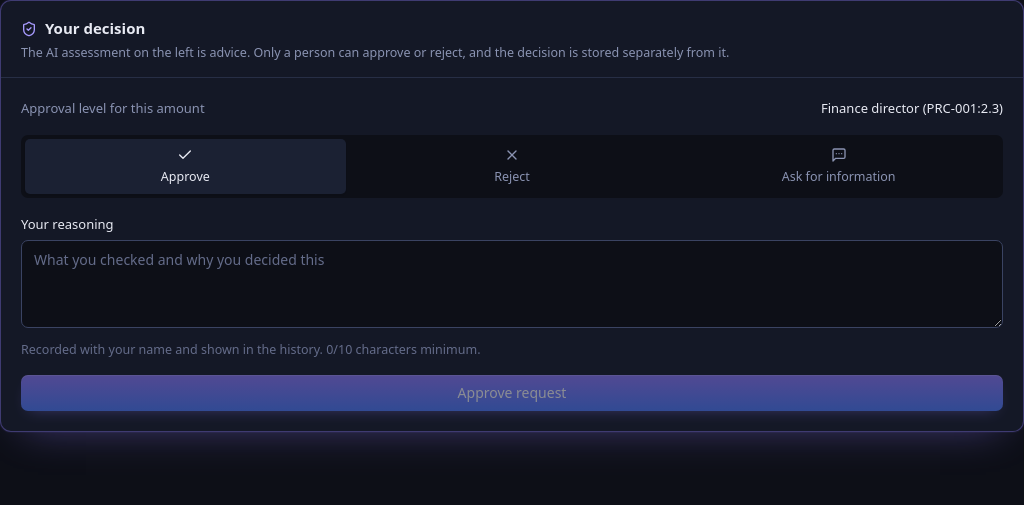
DecisionPanel › requires reasoning before anything can be submitted
The image size is (1024, 505).
Expected: the button "Approve request" is disabled, [21, 375, 1003, 411]
In the text box labelled "Your reasoning": [512, 284] box [21, 240, 1003, 328], type "short"
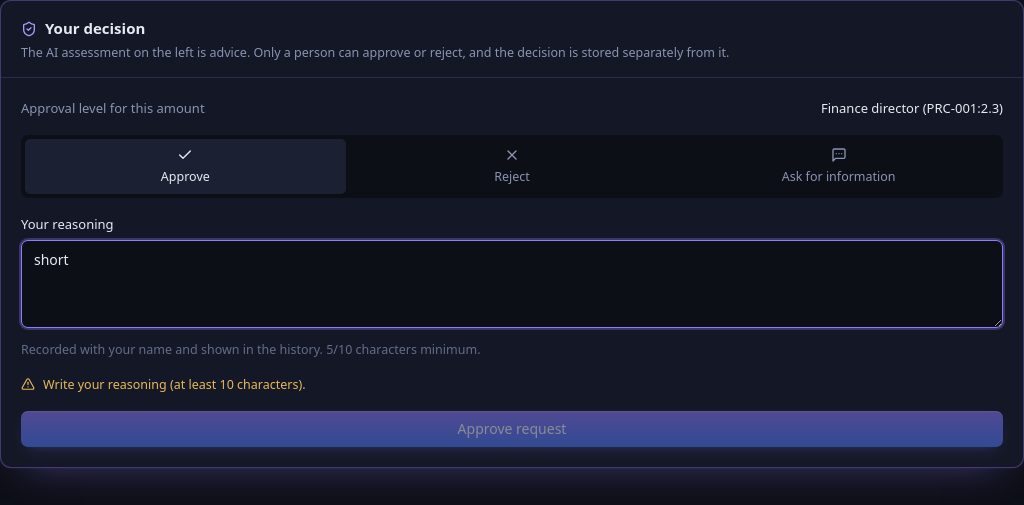
Now the list item "Write your reasoning (at least 10 characters)." is shown, box [21, 376, 306, 393]
In the text box labelled "Your reasoning": [512, 284] box [21, 240, 1003, 328], type " but now it is long enough"
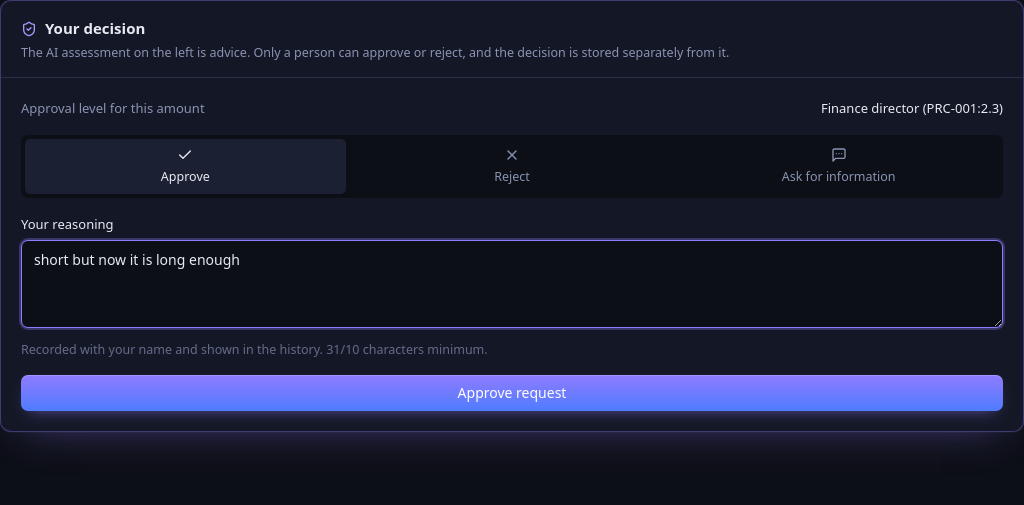
Now the button "Approve request" is enabled, box [21, 375, 1003, 411]
